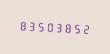eight: (17, 18, 25, 32), (62, 20, 70, 34)
five: (35, 18, 43, 33), (71, 20, 79, 35)
three: (53, 19, 61, 34), (26, 18, 34, 32)
two: (80, 21, 88, 35)
zero: (44, 19, 52, 33)
